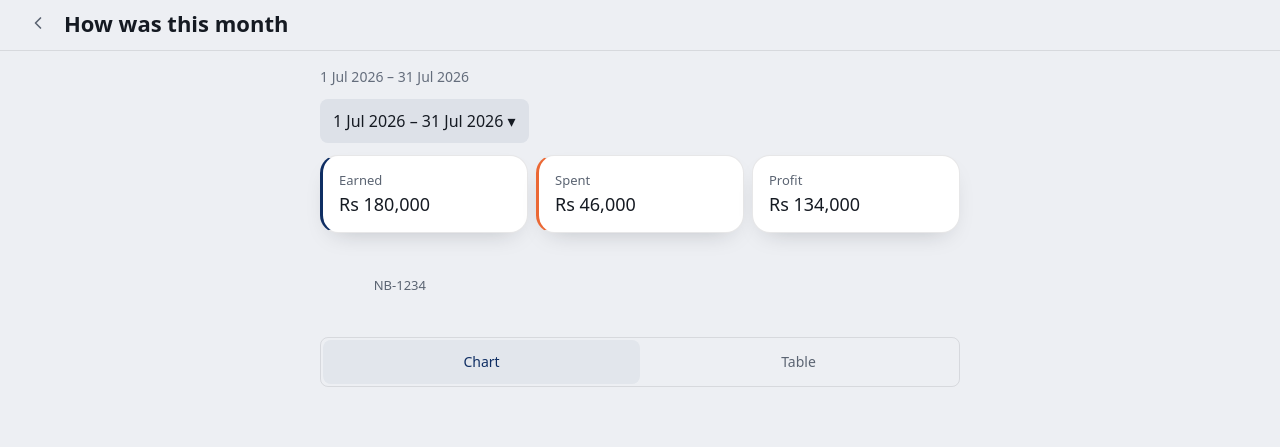
Scenario: the per-vehicle card reads the G-1 golden figure, and expanding it shows each owner's share
Click the button "Table" at x=798, y=362, box [640, 340, 957, 384]
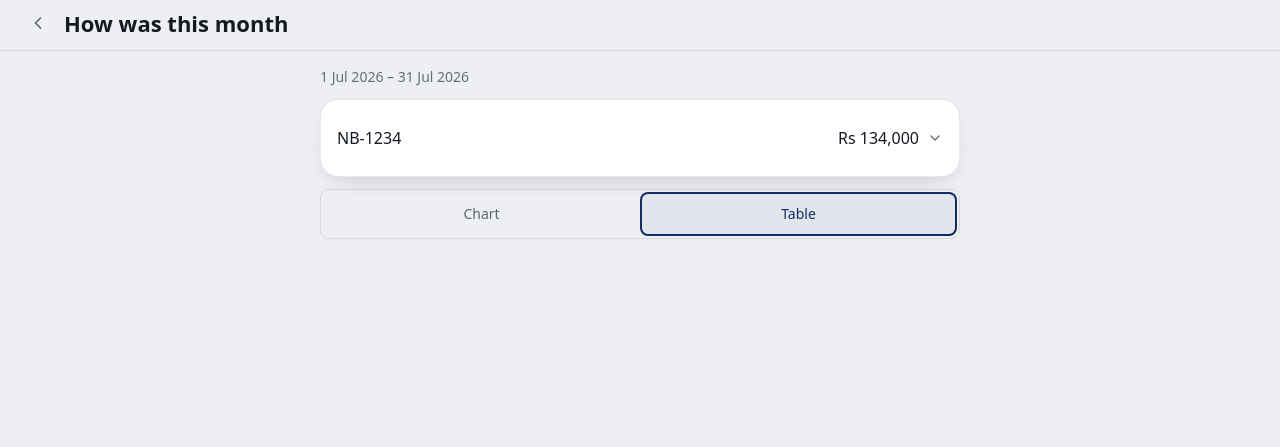
expect the text "Rs 134,000" is shown: met, box [838, 126, 919, 150]
Click the button "NB-1234 Rs 134,000" at x=369, y=138, box [337, 116, 943, 160]
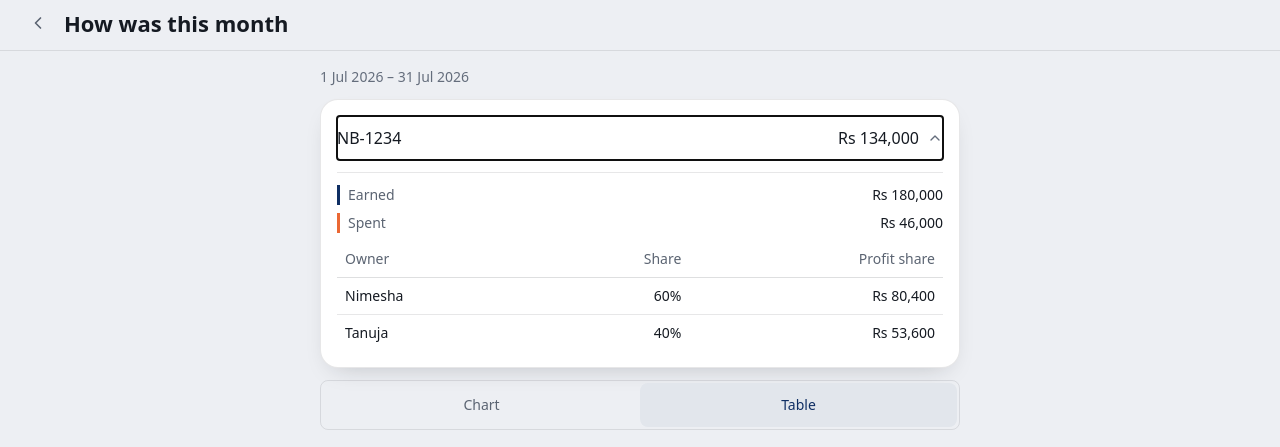
expect the text "Nimesha" is shown: met, box [337, 278, 542, 314]
expect the text "60%" is shown: met, box [542, 278, 689, 314]
expect the text "Rs 80,400" is shown: met, box [872, 286, 935, 305]
